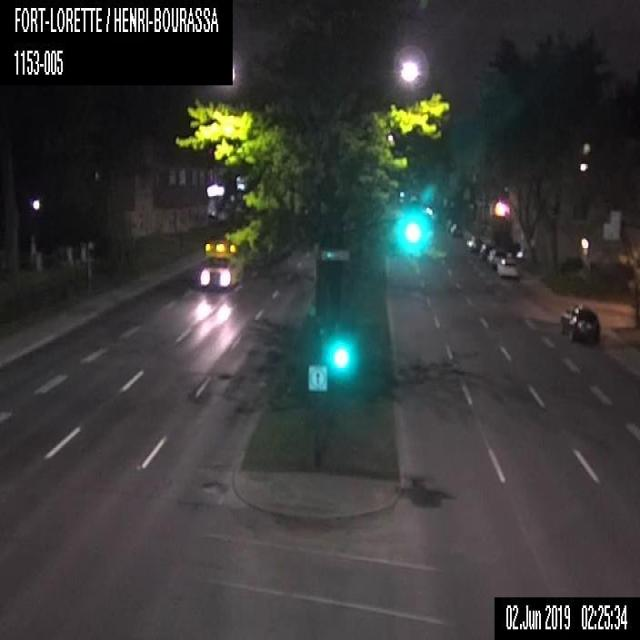bus: (198, 237, 244, 290)
vehicle: (557, 304, 600, 345), (496, 252, 519, 278), (487, 247, 509, 268), (480, 241, 498, 261), (465, 234, 484, 251), (450, 222, 462, 235)
